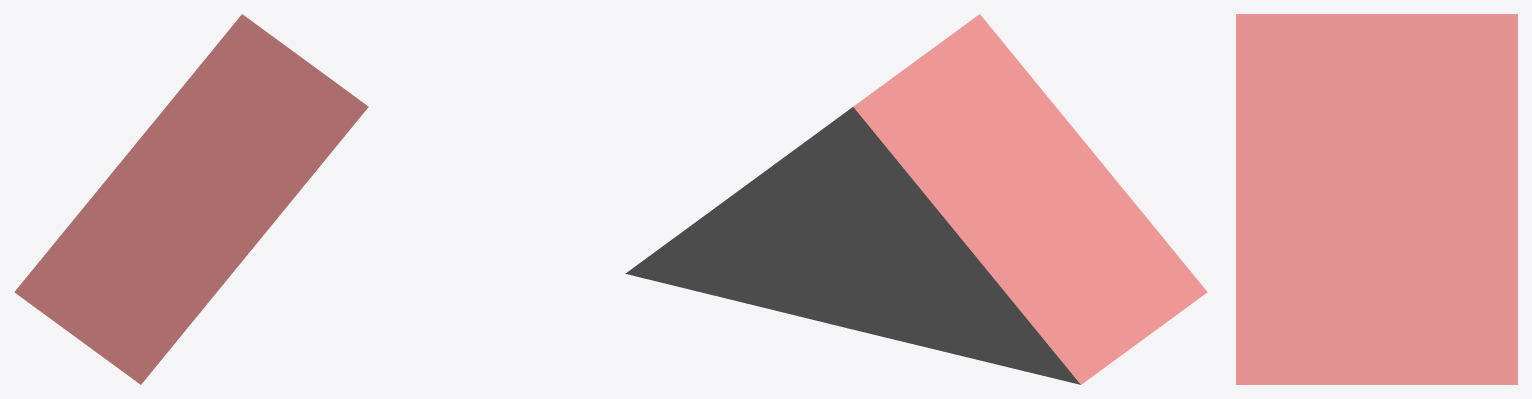
Rendered from base_deco.gltf.
3 renders of one model, left to right at view 1: azimuth 30°, elevation 25°; view 2: azimuth 150°, elevation 25°; view 3: azimuth 270°, elevation 25°, orthographic. The views are drawn at different scales.
Visible parts, largest first — view 1: base_deco; view 2: base_deco; view 3: base_deco.
Boxes of the visible parts, <box> form: base_deco: <box>14,14,368,384</box>; base_deco: <box>625,14,1207,384</box>; base_deco: <box>1236,14,1517,384</box>.
Size of the model in its own units: 1.53 by 0.7144 by 0.7363.
